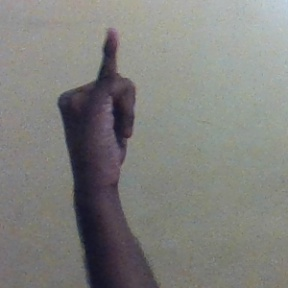I: (60, 27, 142, 183)
